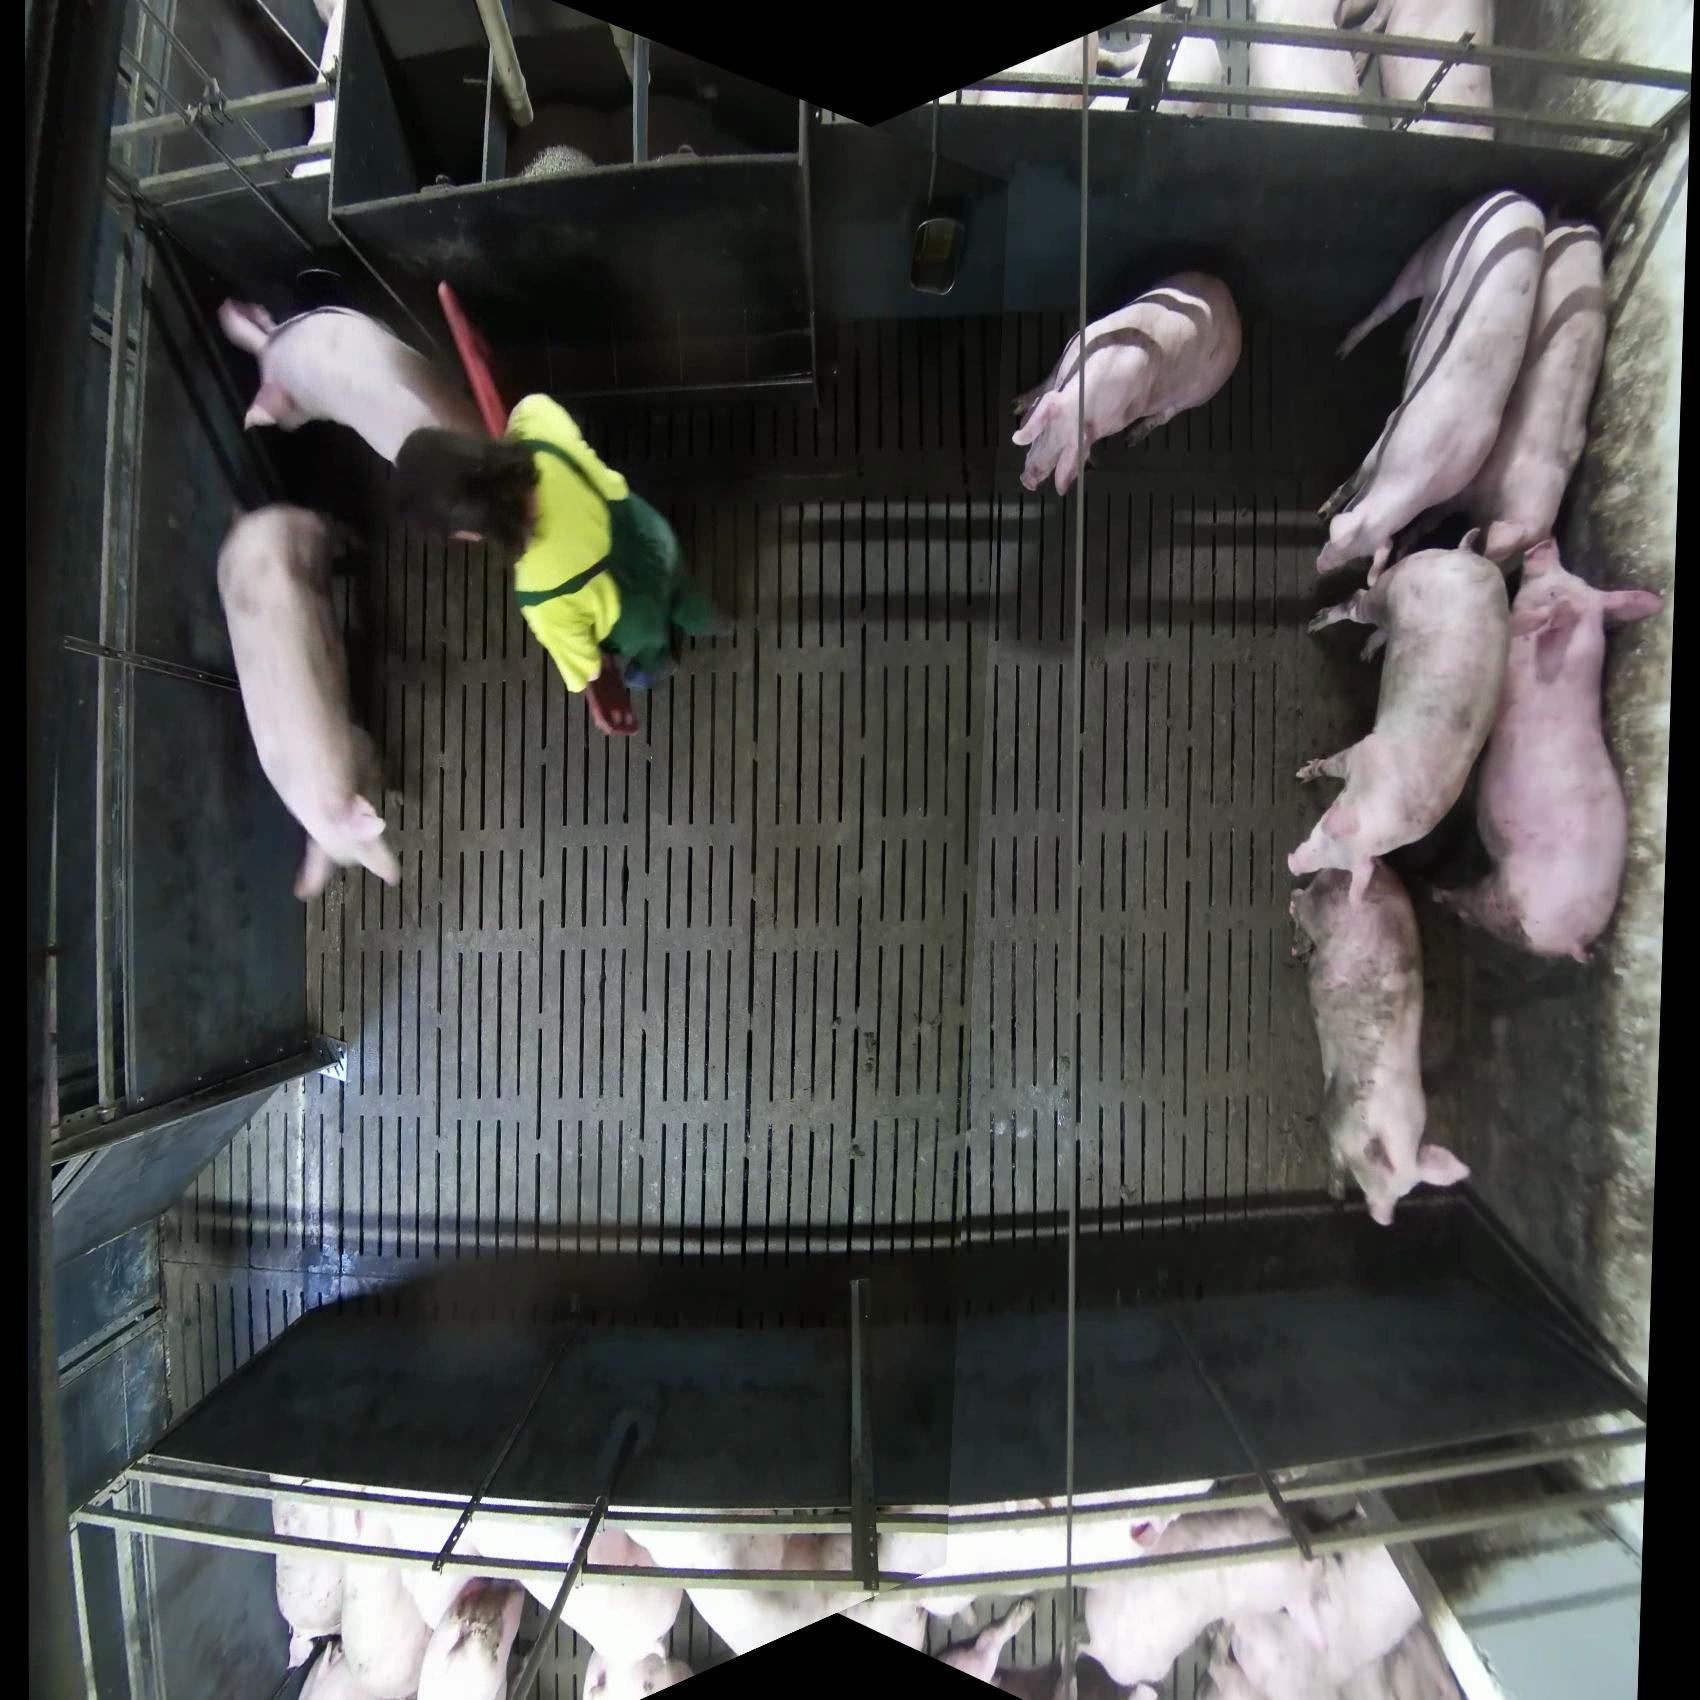pig: (270, 1487, 1465, 1699), (1426, 536, 1665, 969), (1313, 187, 1547, 581), (216, 295, 539, 550), (1287, 531, 1513, 892), (1080, 1492, 1448, 1699), (215, 501, 404, 902), (1286, 855, 1472, 1229), (1417, 217, 1612, 571), (1010, 268, 1243, 498), (1337, 1, 1498, 141), (568, 1525, 694, 1700), (688, 1528, 855, 1659), (297, 1561, 429, 1700), (1247, 1, 1373, 128), (1097, 3, 1228, 121), (271, 1497, 354, 1671), (417, 1576, 527, 1699), (925, 1594, 1037, 1687), (582, 1648, 696, 1700)
worker: (412, 329, 739, 766)
